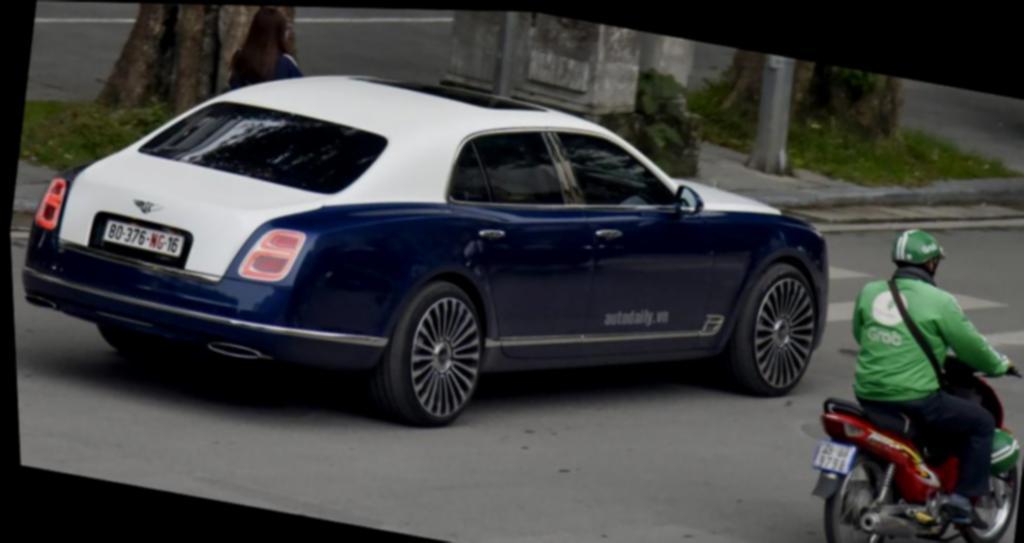License_Plate: (94, 214, 190, 267), (805, 432, 861, 478)
